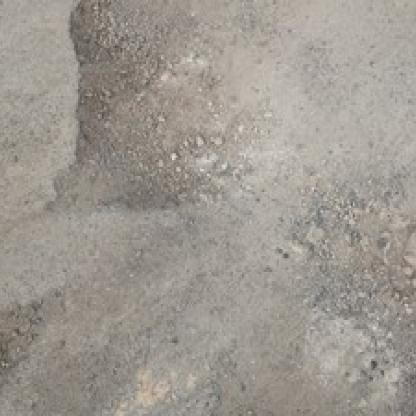pothole: (61, 0, 231, 213)
